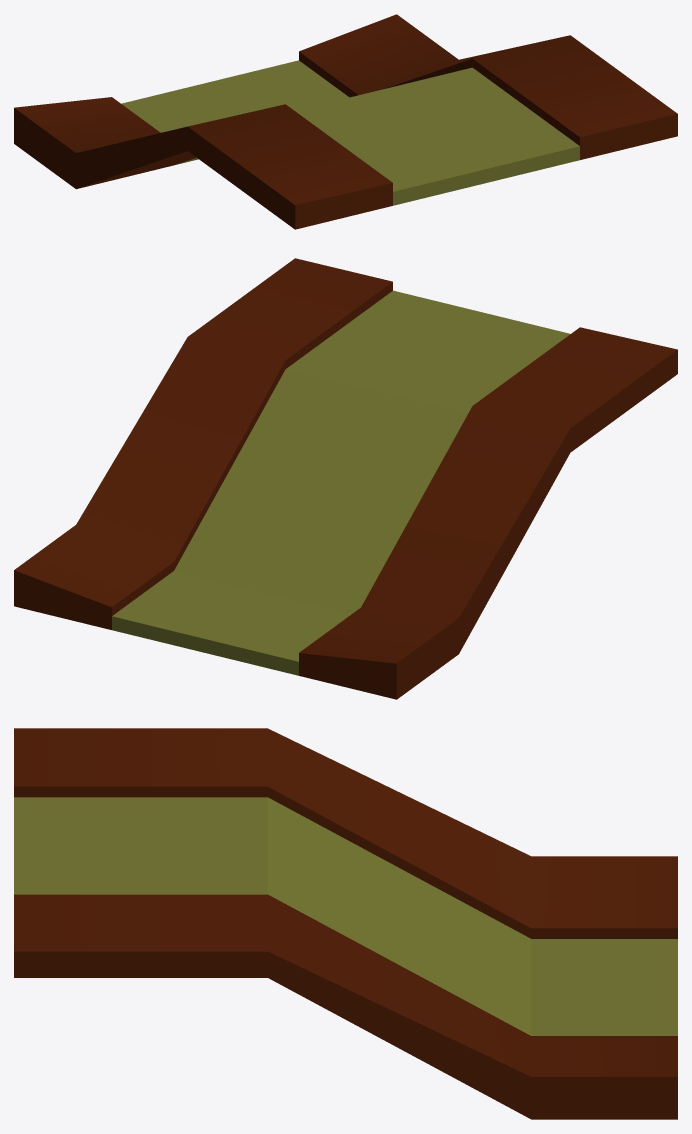
Rendered from UpSlope.fbx.
3 views of the same model, one above another, from view 1: azimuth 30°, elevation 25°; view 2: azimuth 150°, elevation 25°; view 3: azimuth 270°, elevation 25° (orthographic). The views are drawn at different scales.
Parts seen in each view (by area): view 1: UpSlope; view 2: UpSlope; view 3: UpSlope.
Part boxes in pixels (left/top/right/bottom): UpSlope: left=14, top=14, right=677, bottom=229; UpSlope: left=14, top=258, right=677, bottom=699; UpSlope: left=14, top=728, right=677, bottom=1119.
Bounding box in the file's own units: 2867 × 3648 × 1033.
